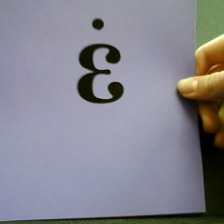violet3: (69, 14, 131, 106)
